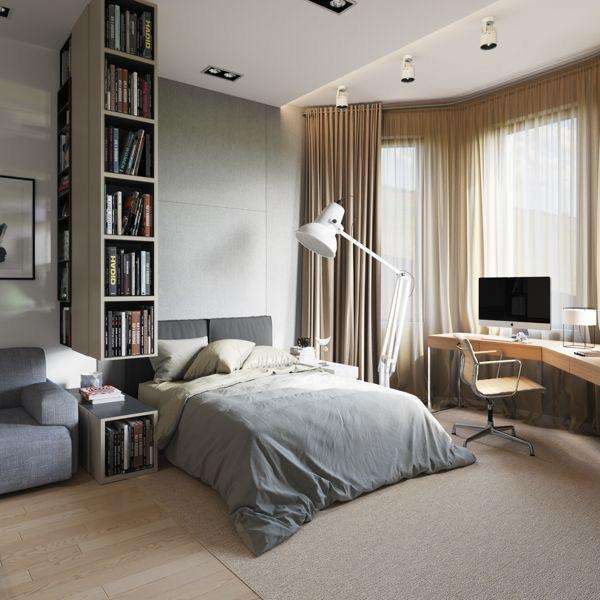床: (149, 366, 456, 534)
枕头: (141, 335, 314, 382)
灯: (295, 203, 411, 389), (557, 305, 598, 346), (399, 53, 416, 87), (208, 66, 242, 83), (331, 85, 351, 113), (480, 30, 502, 53)
